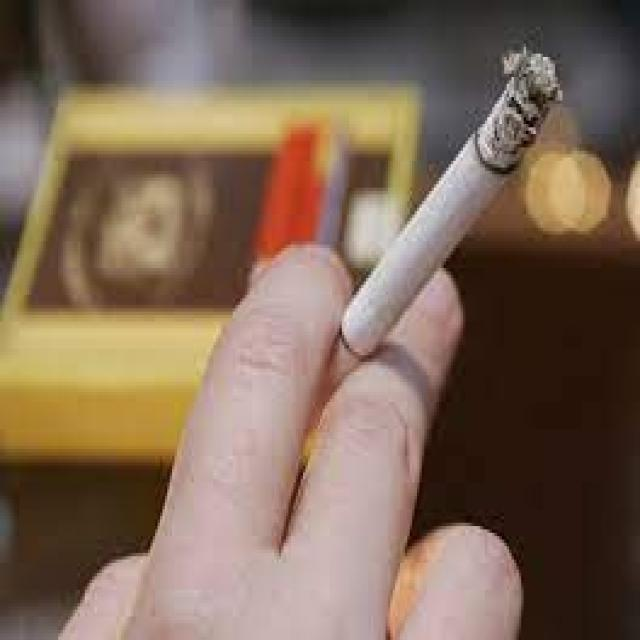rokok: (339, 44, 571, 333)
